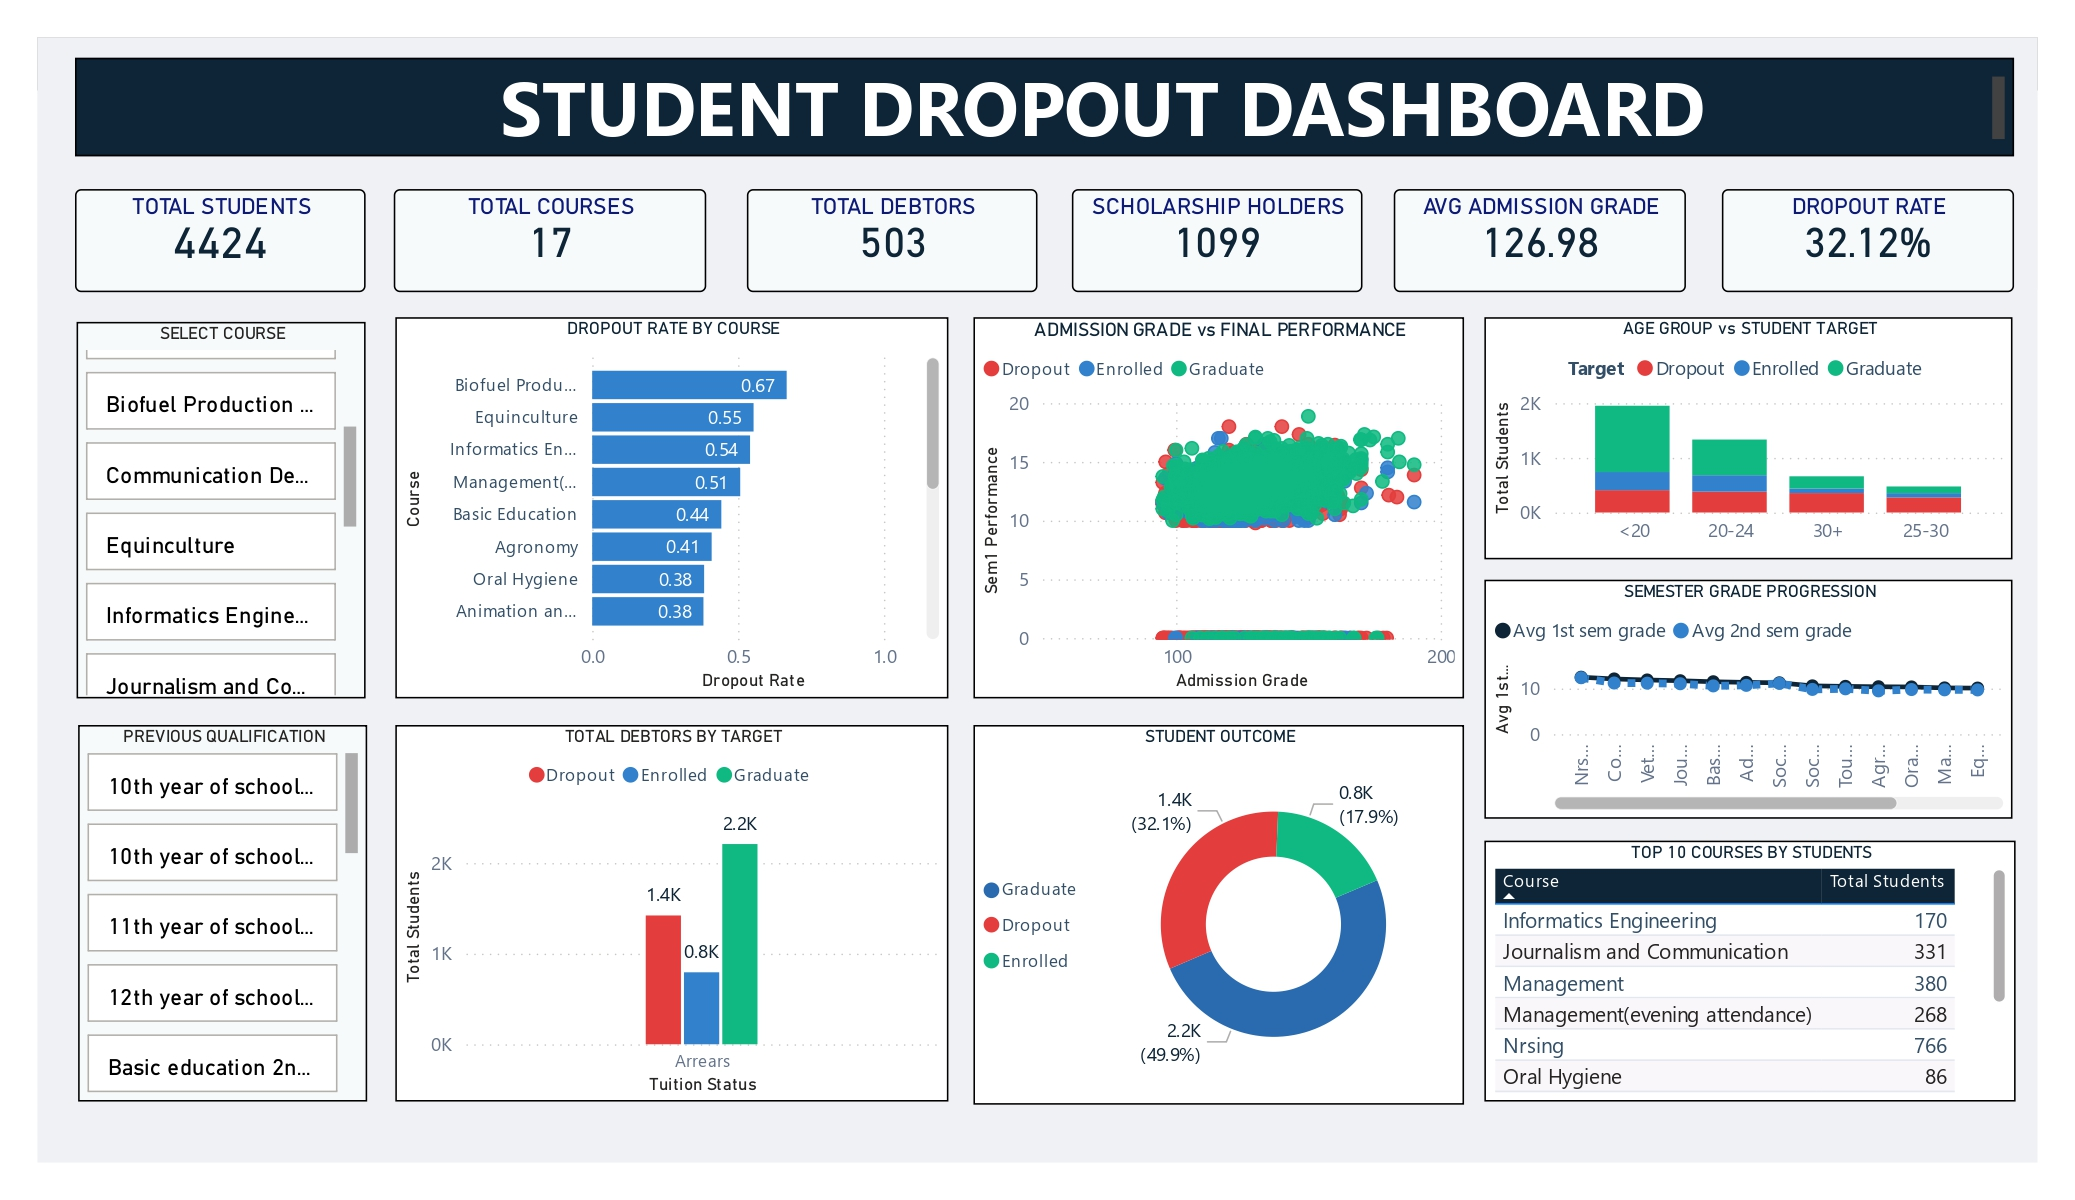

The dashboard page shown, as its layout file describes it:
{"tool":"powerbi","page":{"name":"Page 1","canvas":[1280,720],"ordinal":0},"visuals":[{"type":"textbox","box":[23.5,13.4,1241.4,62.2],"z":0},{"type":"card","title":"TOTAL COURSES","fields":{"Values":["student_dropout_data.total_courses"]},"box":[228.5,97.4,199.9,65.5],"z":1000},{"type":"card","title":"TOTAL DEBTORS","fields":{"Values":["student_dropout_data.total_debtors"]},"box":[453.5,97.4,186.5,65.5],"z":2000},{"type":"card","title":"SCHOLARSHIP HOLDERS","fields":{"Values":["student_dropout_data.scholarship_holders"]},"box":[661.8,97.4,186.5,65.5],"z":3000},{"type":"card","title":"AVG ADMISSION GRADE","fields":{"Values":["student_dropout_data.average_admission_grade"]},"box":[868.5,97.4,186.5,65.5],"z":4000},{"type":"card","title":"DROPOUT RATE","fields":{"Values":["student_dropout_data.dropout_rate"]},"box":[1078.4,97.4,186.5,65.5],"z":5000},{"type":"card","title":"TOTAL STUDENTS","fields":{"Values":["student_dropout_data.total_students"]},"box":[23.5,97.4,186.5,65.5],"z":6000},{"type":"donutChart","title":"STUDENT OUTCOME","fields":{"Category":["student_dropout_data.Target"],"Y":["student_dropout_data.total_students"]},"box":[598.6,440,314.3,242.9],"z":7000},{"type":"clusteredBarChart","title":"DROPOUT RATE BY COURSE","fields":{"Category":["student_dropout_data.Course"],"Y":["student_dropout_data.dropout_rate"]},"box":[228.6,178.6,354.3,244.3],"z":8000},{"type":"columnChart","title":"AGE GROUP vs STUDENT TARGET","fields":{"Category":["student_dropout_data.age_group"],"Y":["student_dropout_data.total_students"],"Series":["student_dropout_data.Target"]},"box":[925.7,178.6,338.6,155.7],"z":9000},{"type":"lineChart","title":"SEMESTER GRADE PROGRESSION","fields":{"Category":["student_dropout_data.Course"],"Y":["student_dropout_data.avg_1stsem_grade","student_dropout_data.avg-2ndsem_grade"]},"box":[925.7,347.1,338.6,152.9],"z":11000},{"type":"scatterChart","title":"ADMISSION GRADE vs FINAL PERFORMANCE","fields":{"Series":["student_dropout_data.Target"],"X":["student_dropout_data.Admission grade"],"Y":["student_dropout_data.Curricular units 1st sem (grade)"]},"box":[598.6,178.6,314.3,244.3],"z":12000},{"type":"clusteredColumnChart","title":"TOTAL DEBTORS BY TARGET ","fields":{"Category":["student_dropout_data.tuition_status"],"Y":["student_dropout_data.total_students"],"Series":["student_dropout_data.Target"]},"box":[228.6,440,354.3,241.4],"z":13000},{"type":"tableEx","title":"TOP 10 COURSES BY STUDENTS","fields":{"Values":["student_dropout_data.Course","student_dropout_data.total_students"]},"box":[925.7,514.3,340,167.1],"z":14000},{"type":"advancedSlicerVisual","title":"SELECT COURSE","fields":{"Values":["student_dropout_data.Course"]},"box":[25,181.7,185,241.7],"z":16000},{"type":"advancedSlicerVisual","title":"PREVIOUS QUALIFICATION","fields":{"Values":["student_dropout_data.Previous qualification"]},"box":[25.7,440,185.7,241.4],"z":16001}]}

Visuals, with their boxes in screenshot pixels (x1, y1, x2, y2):
textbox: 79 53 1994 149
"TOTAL COURSES" card: 396 183 704 284
"TOTAL DEBTORS" card: 743 183 1030 284
"SCHOLARSHIP HOLDERS" card: 1064 183 1351 284
"AVG ADMISSION GRADE" card: 1382 183 1670 284
"DROPOUT RATE" card: 1706 183 1994 284
"TOTAL STUDENTS" card: 79 183 367 284
"STUDENT OUTCOME" donutChart: 966 711 1451 1085
"DROPOUT RATE BY COURSE" clusteredBarChart: 396 308 942 685
"AGE GROUP vs STUDENT TARGET" columnChart: 1471 308 1993 548
"SEMESTER GRADE PROGRESSION" lineChart: 1471 568 1993 803
"ADMISSION GRADE vs FINAL PERFORMANCE" scatterChart: 966 308 1451 685
"TOTAL DEBTORS BY TARGET " clusteredColumnChart: 396 711 942 1083
"TOP 10 COURSES BY STUDENTS" tableEx: 1471 825 1995 1083
"SELECT COURSE" advancedSlicerVisual: 82 313 367 685
"PREVIOUS QUALIFICATION" advancedSlicerVisual: 83 711 369 1083
